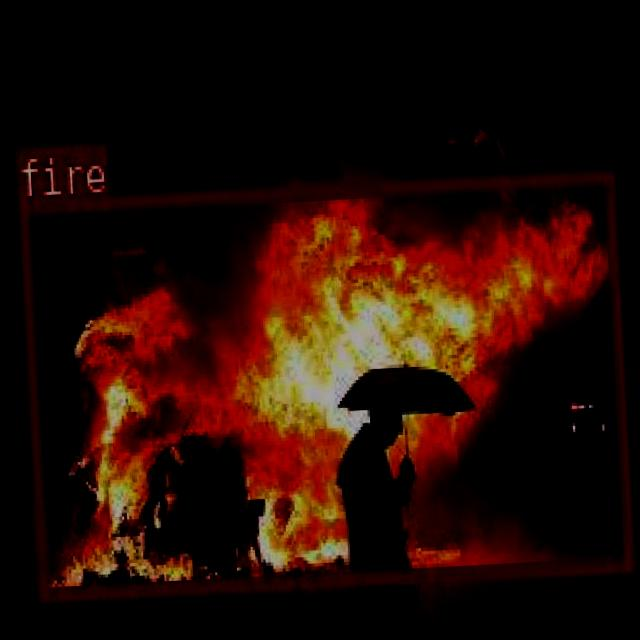fire: (18, 168, 632, 602)
